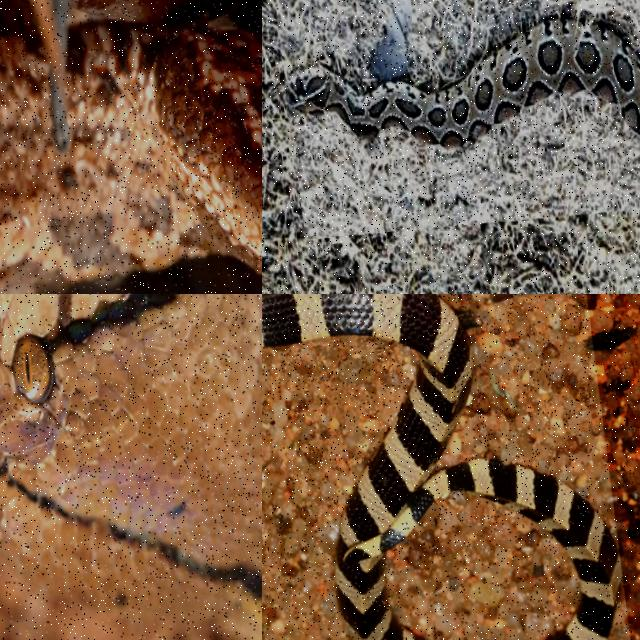Bungarus fasciatus: (262, 294, 624, 639)
Daboia siamensis: (287, 14, 639, 144)
Malayopython reticulatus: (0, 294, 261, 639)
Ovophis monticola: (0, 23, 261, 286)
snake: (262, 294, 624, 639), (0, 294, 261, 639), (0, 23, 261, 286), (287, 14, 639, 144)
